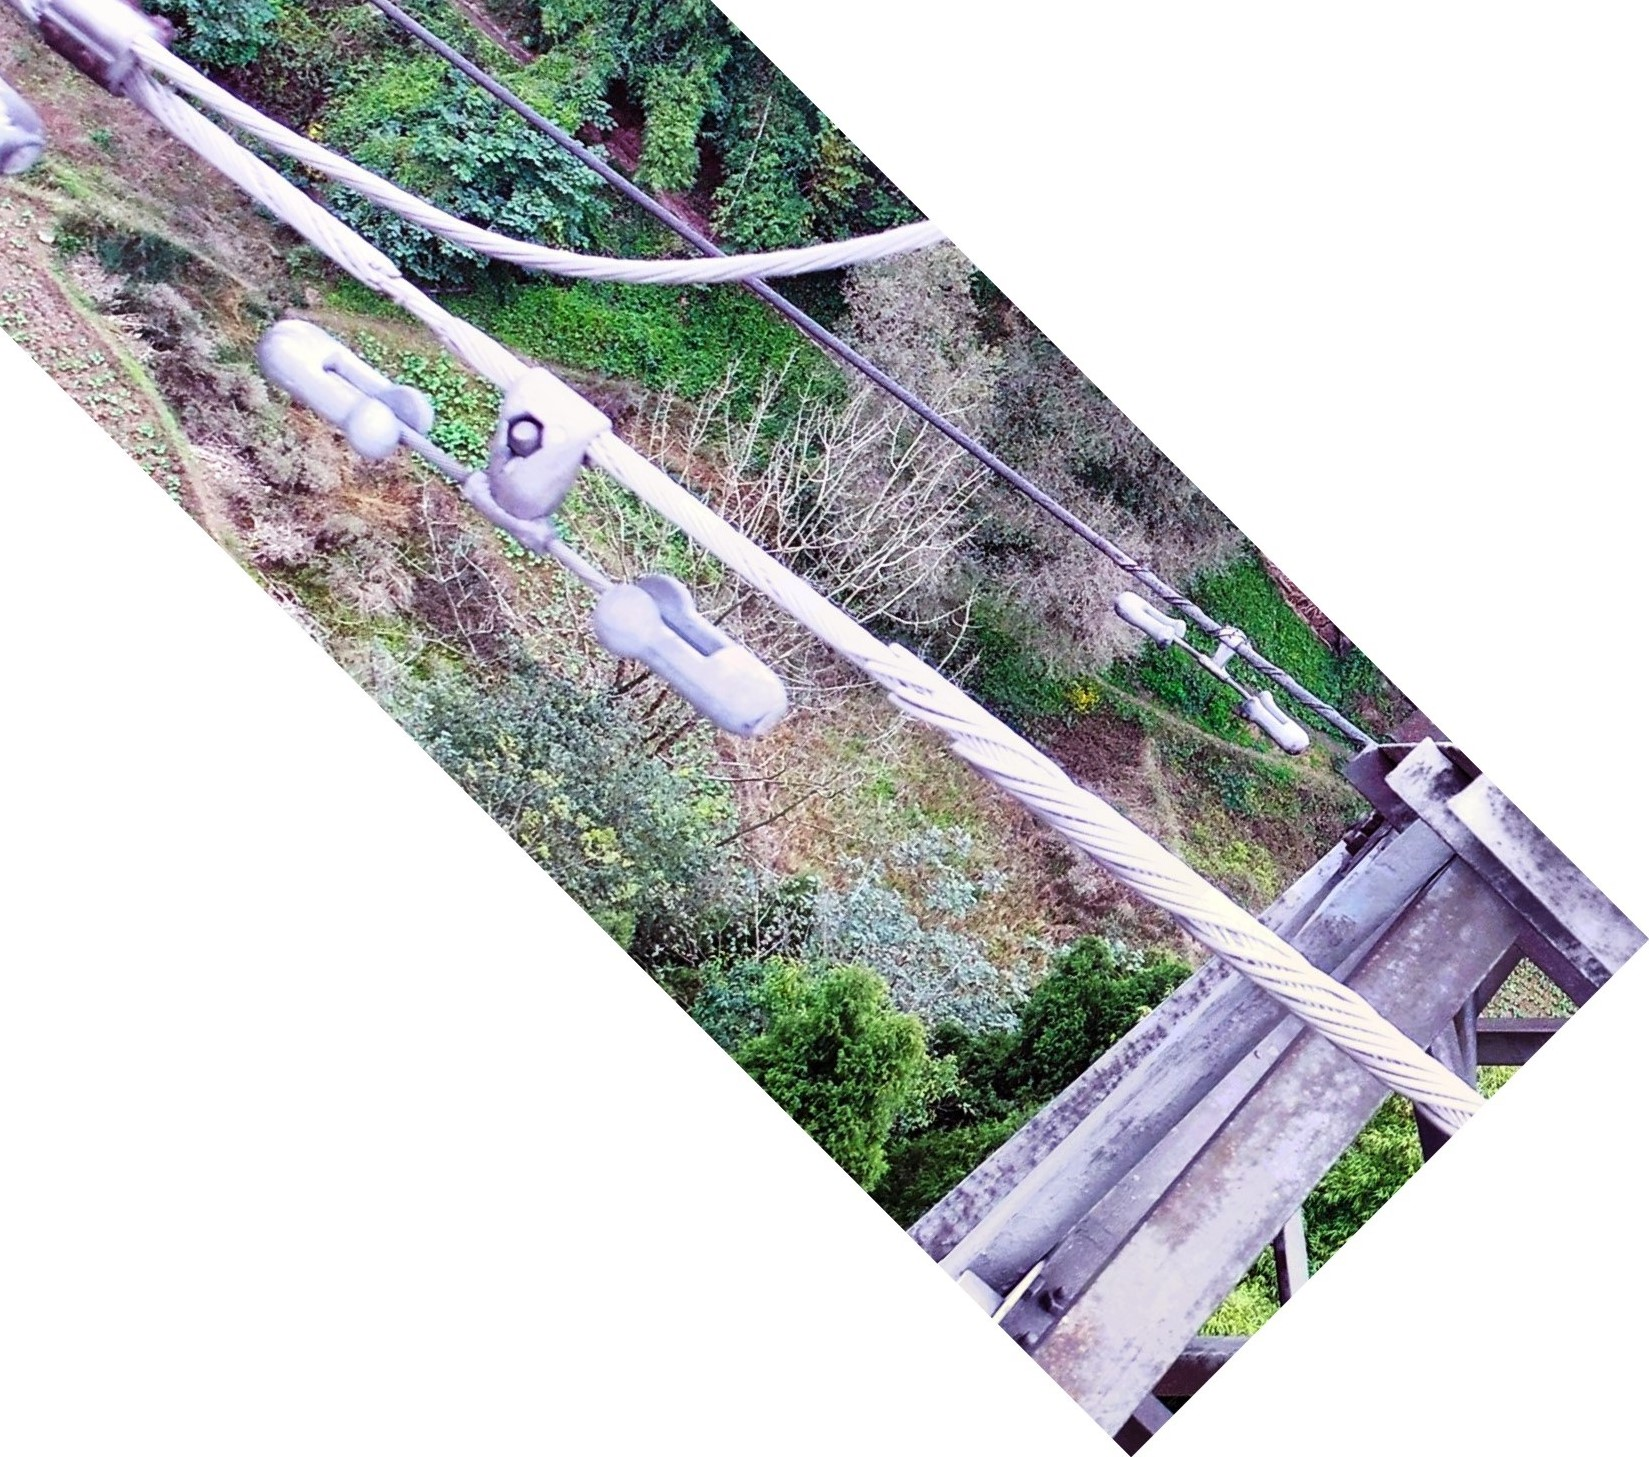Shockproof hammer: (238, 238, 808, 752)
